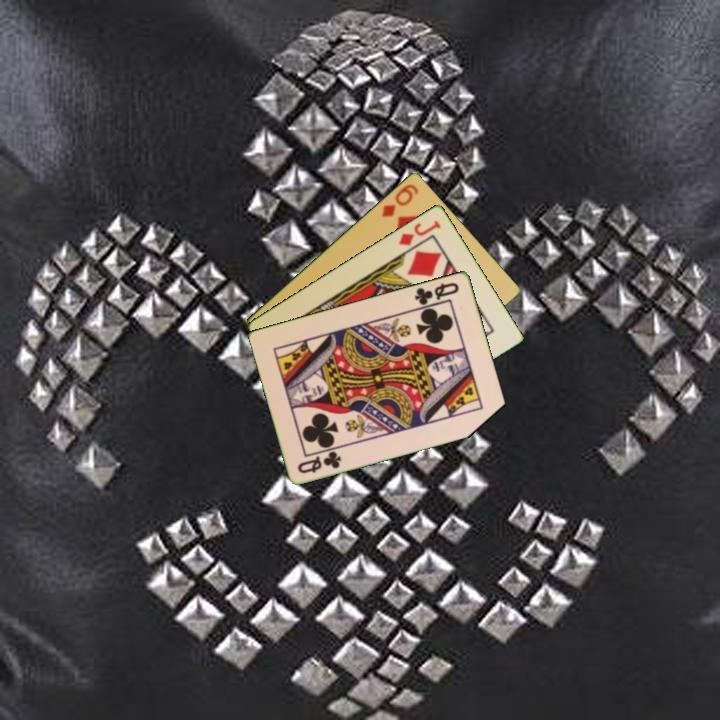6d: (378, 180, 421, 220)
Jd: (395, 216, 444, 248)
Qc: (411, 278, 462, 311), (294, 447, 345, 476)
